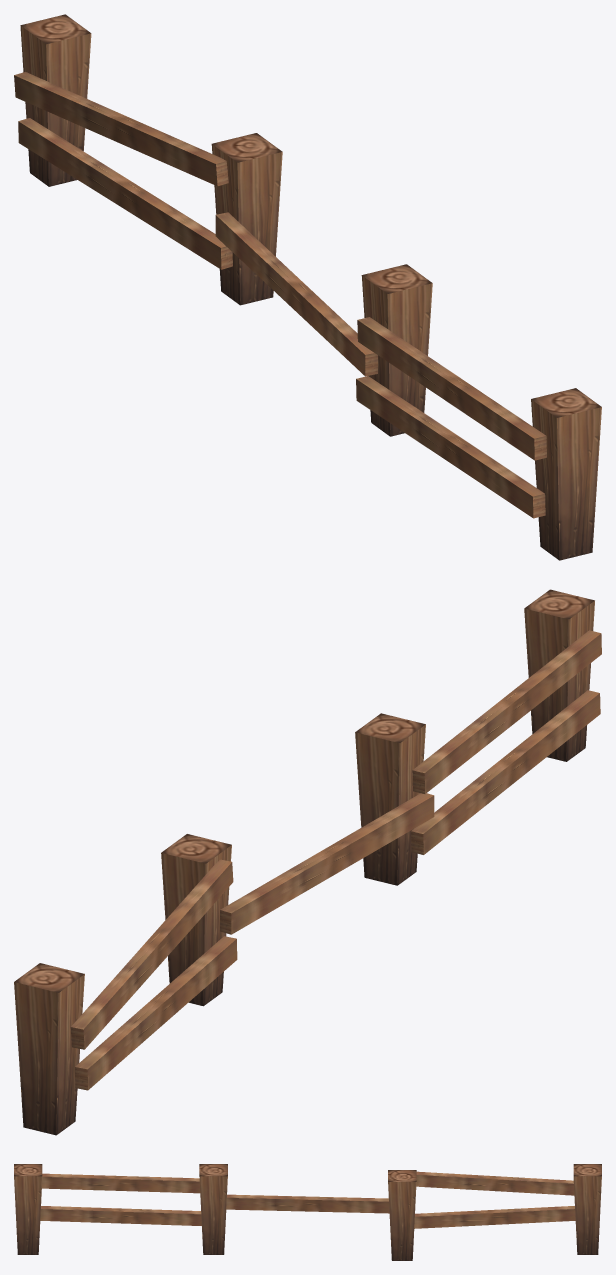
Rendered from Fence2.FBX.
3 views of the same model, one above another, from view 1: azimuth 30°, elevation 25°; view 2: azimuth 150°, elevation 25°; view 3: azimuth 270°, elevation 25° (orthographic). The views are drawn at different scales.
Parts seen in each view (by area): view 1: Box002; view 2: Box002; view 3: Box002.
Boxes of the visible parts, x1=… form: Box002: x1=14, y1=14, x2=601, y2=560; Box002: x1=14, y1=589, x2=601, y2=1135; Box002: x1=14, y1=1164, x2=601, y2=1260.
Bounding box in the file's own units: 11 × 18.67 × 124.
